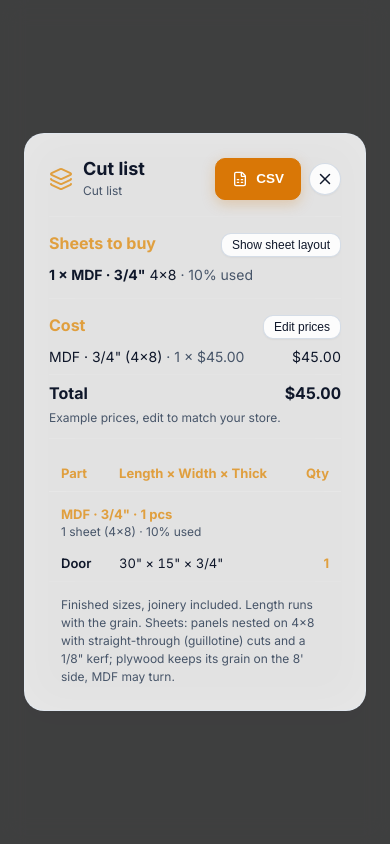
Scenario: CutListDrawer sheet layout › MDF captions skip the grain note
Click the button with test id "sheet-layout-toggle": coordinates (281, 245) x1=221 y1=233 x2=341 y2=257
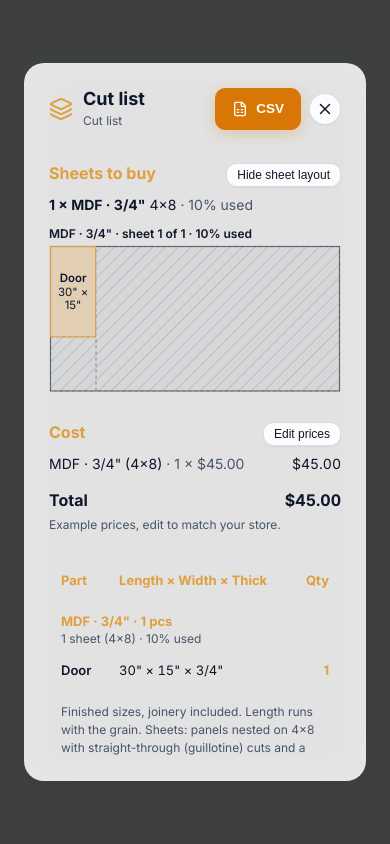
Expected: the text "MDF · 3/4\" · sheet 1 of 1 · 10% used" is shown, x1=49 y1=226 x2=252 y2=241
